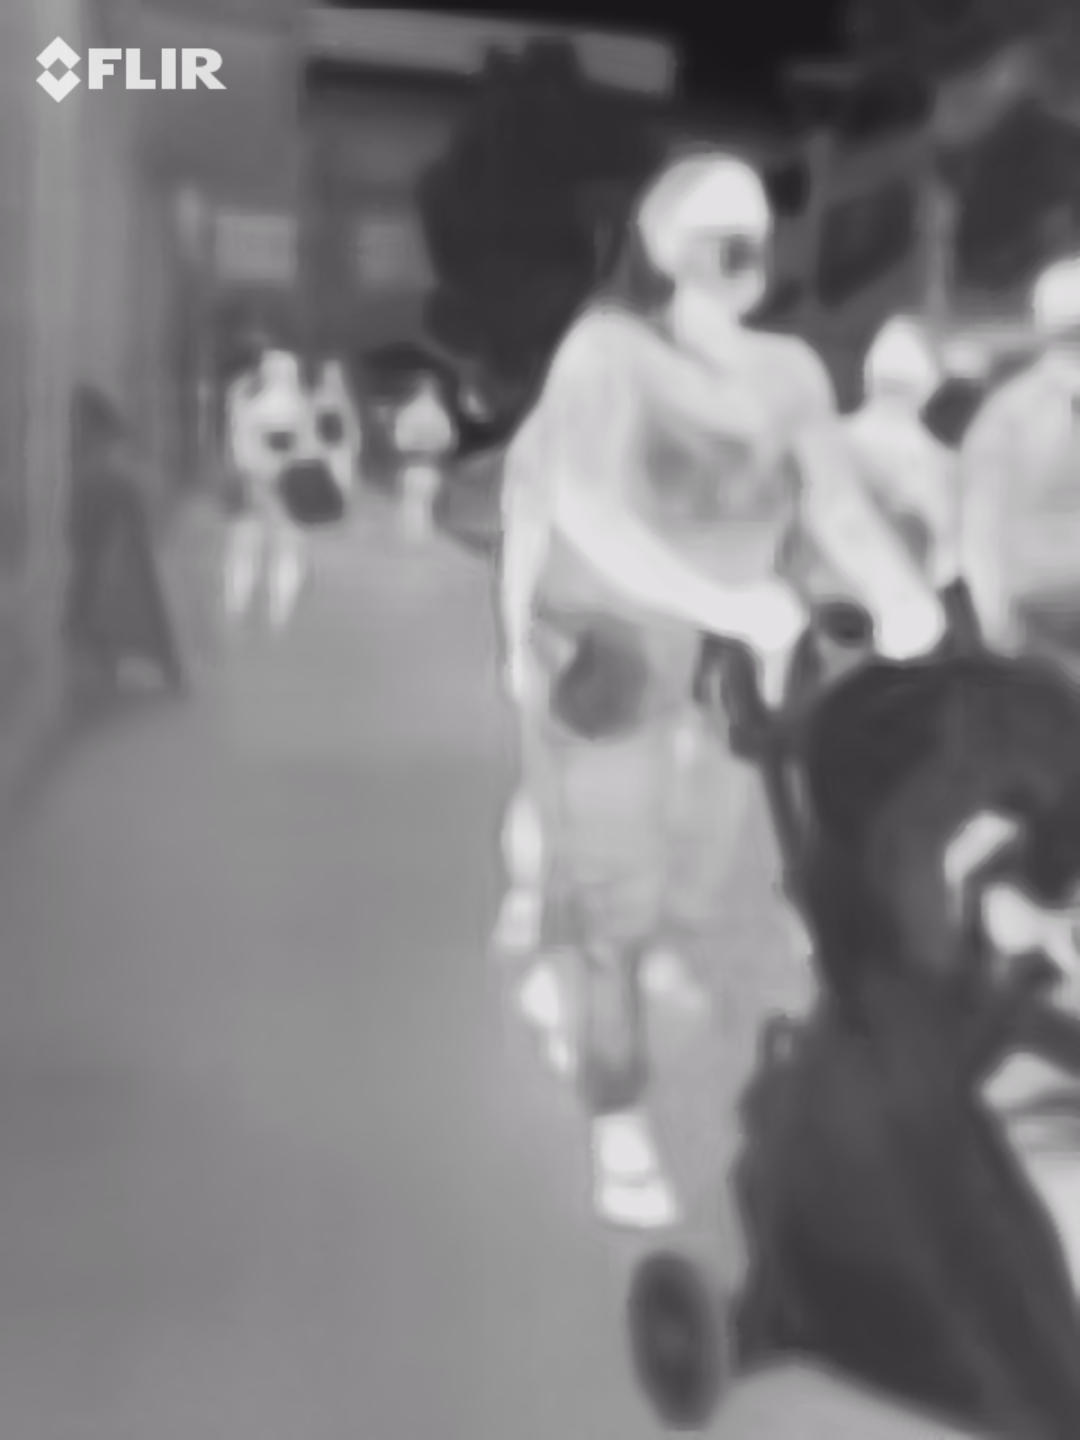head: (630, 142, 774, 336)
